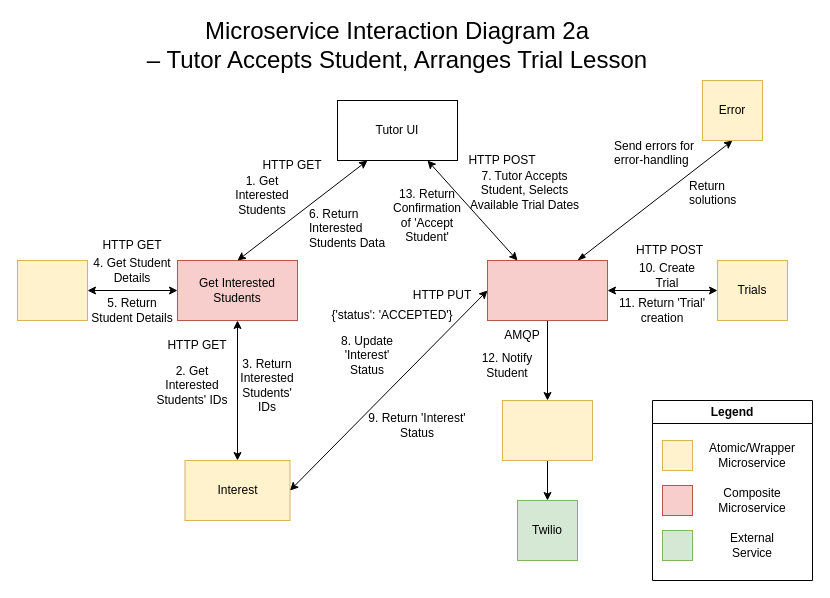
This 830x598 diagram has some shape labels left out. Here are the shapes that lost their labels. From the top down, the centre of each, then its label:
the point at 52,290: Students
the point at 547,290: Accept Student
the point at 547,430: Notification
